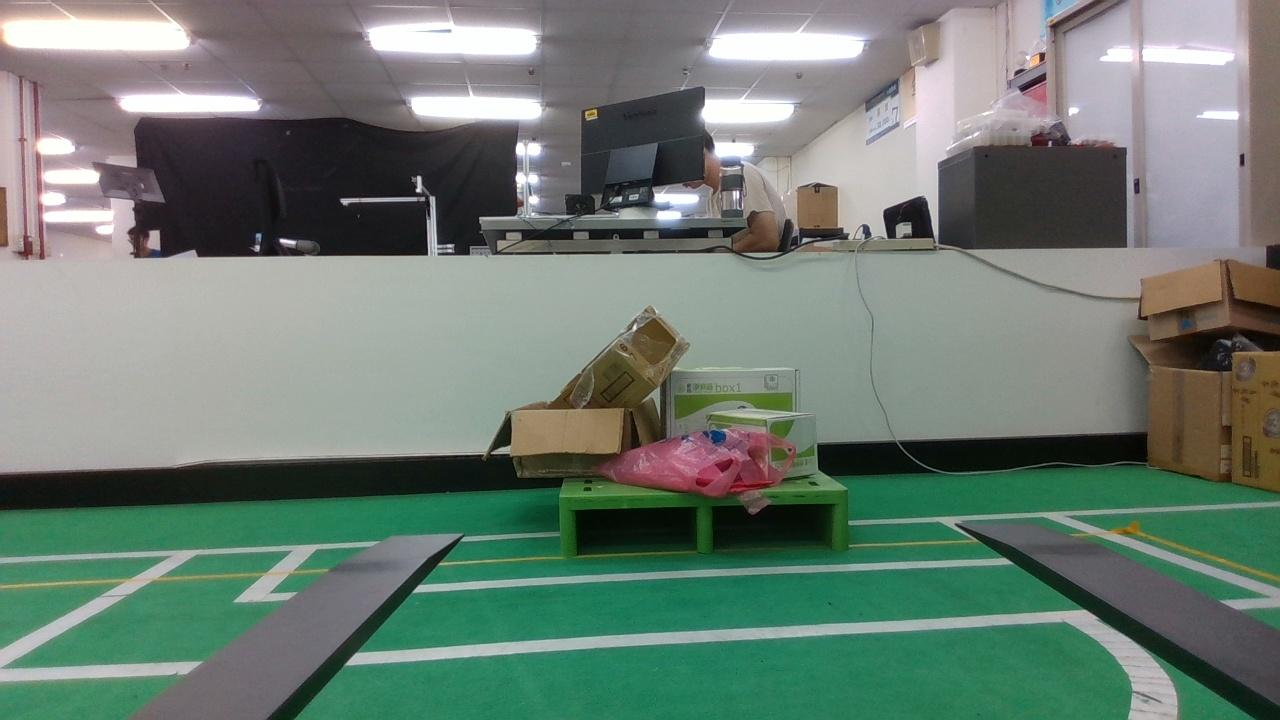Pallet: (559, 488, 849, 558)
